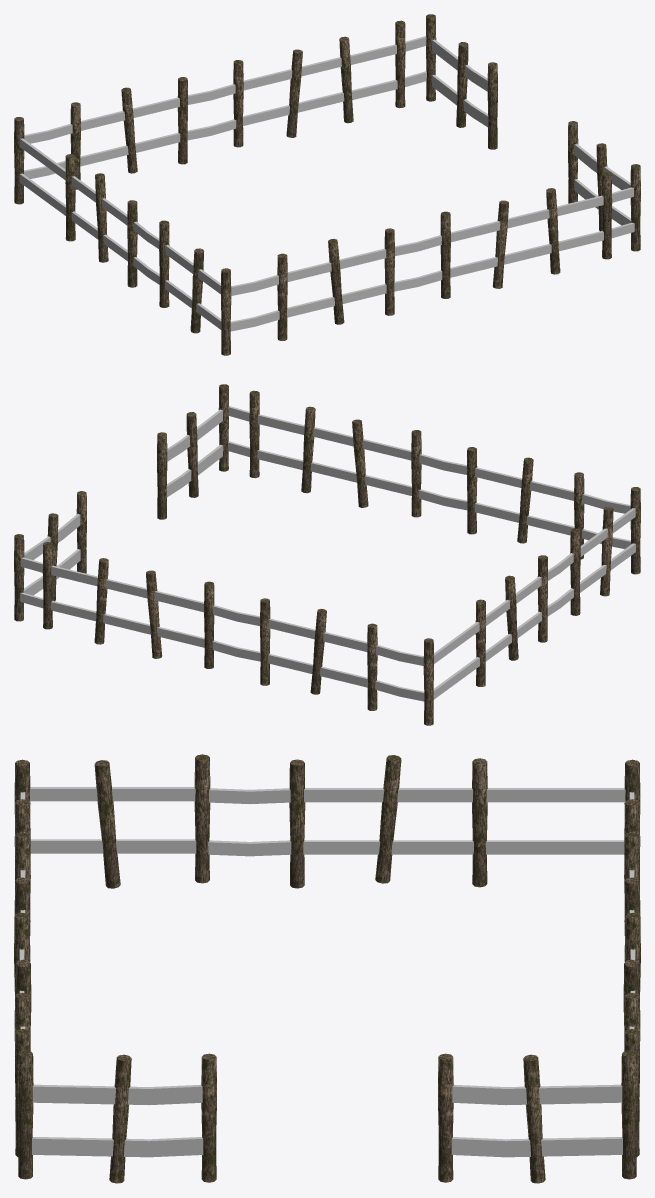
The model's file is fence_bridge house.FBX.
3 renders of one model, top to bottom at view 1: azimuth 30°, elevation 25°; view 2: azimuth 150°, elevation 25°; view 3: azimuth 270°, elevation 25°, orthographic. The views are drawn at different scales.
Parts seen in each view (by area): view 1: Object821; view 2: Object821; view 3: Object821.
Part boxes in pixels (x1,y1,x2,y2): Object821: (14, 14, 640, 355); Object821: (14, 384, 640, 725); Object821: (14, 754, 640, 1183).
Bounding box in the file's own units: 972 × 192 × 851.
